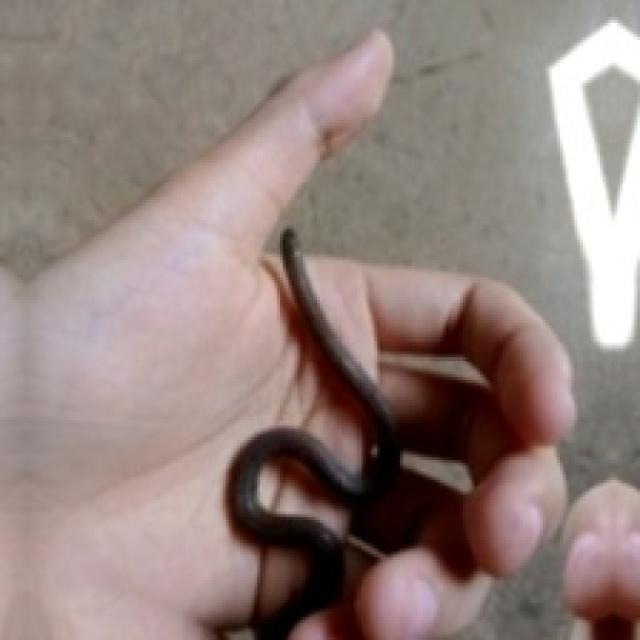gervais worm snake: (226, 229, 401, 640)
